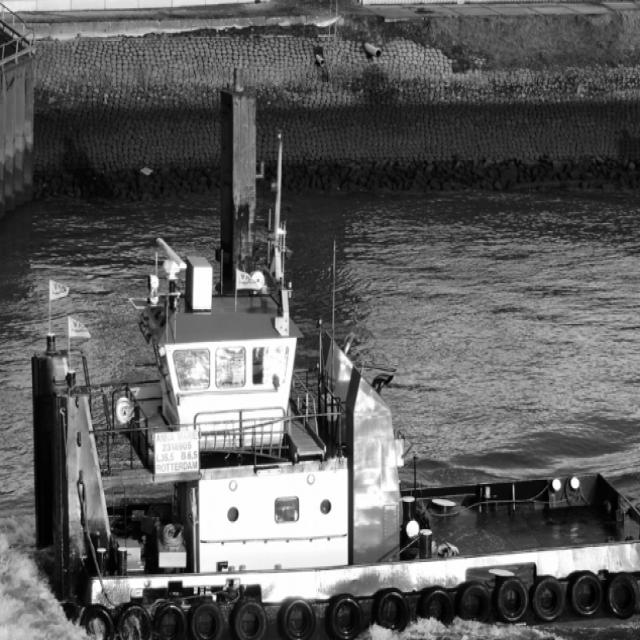tugboat: (26, 233, 640, 640)
